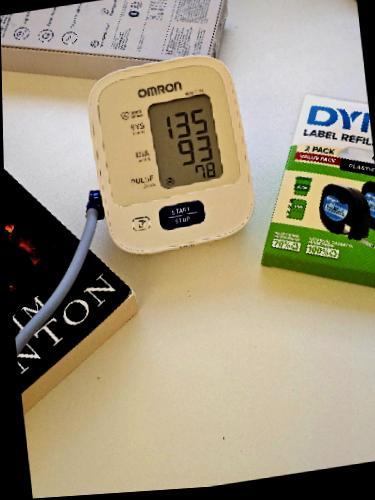bpm: (142, 92, 226, 190)
